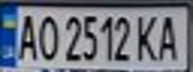1: (97, 12, 118, 62)
2: (112, 12, 136, 62), (60, 11, 81, 63)
5: (78, 11, 100, 62)
A: (12, 10, 42, 62), (154, 11, 184, 62)
K: (133, 12, 160, 63)
O: (33, 11, 60, 62)
